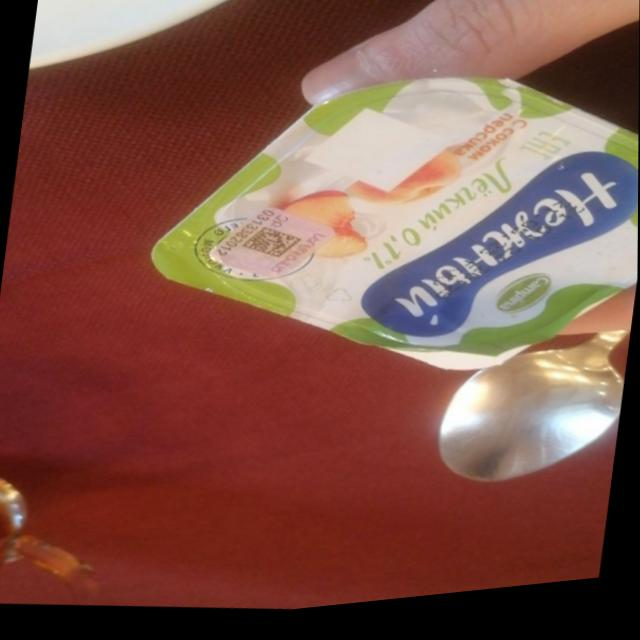datamatrix: (240, 227, 302, 270)
